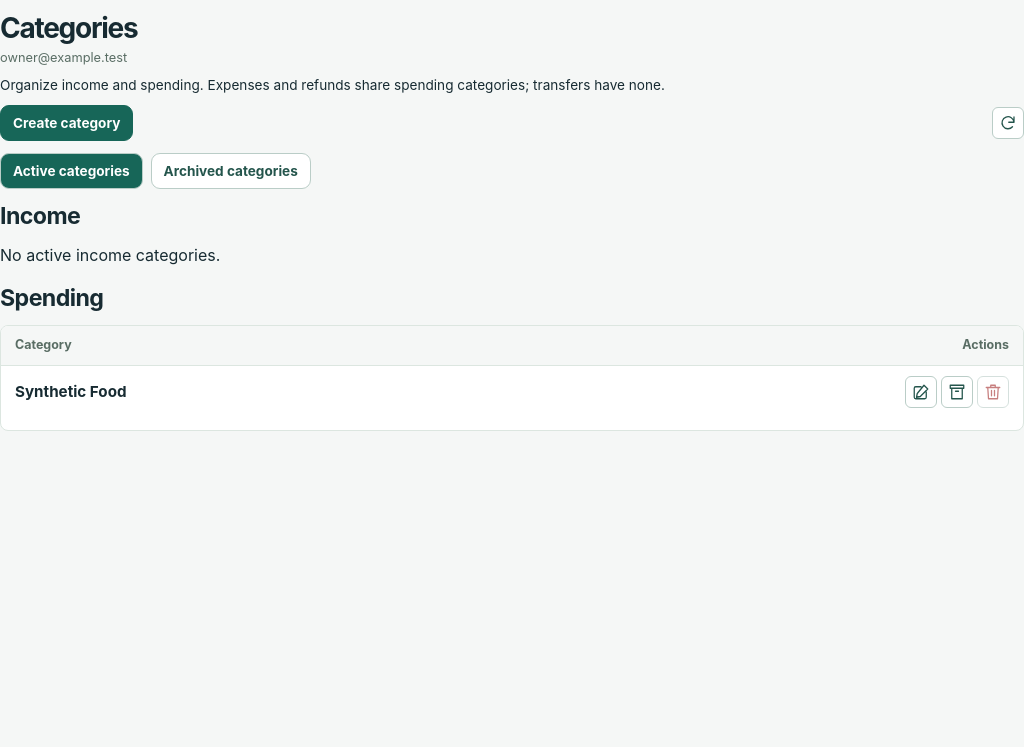
creates a child with parent and type and retains input after a failure
Expected: the heading "Synthetic Food" is shown, [15, 382, 126, 401]
Click the button "Create category".
click(67, 123)  # box [0, 105, 133, 141]
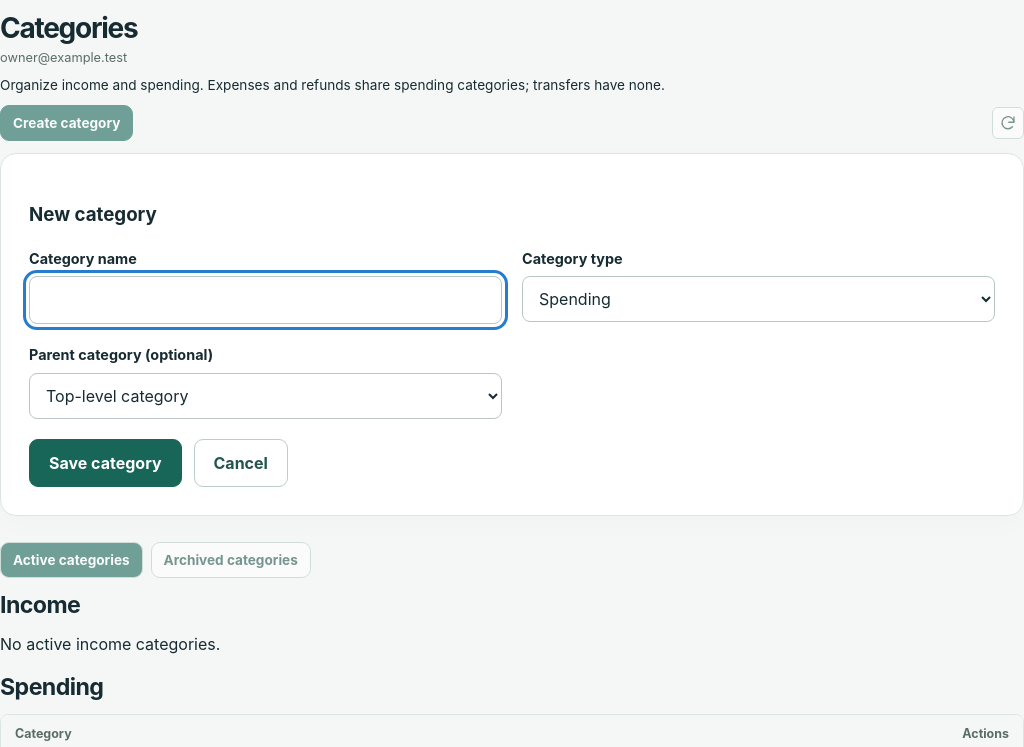
Type "Synthetic Groceries" into the field labelled "Category name".
click(266, 300); type("Synthetic Groceries")  # box [29, 276, 502, 324]
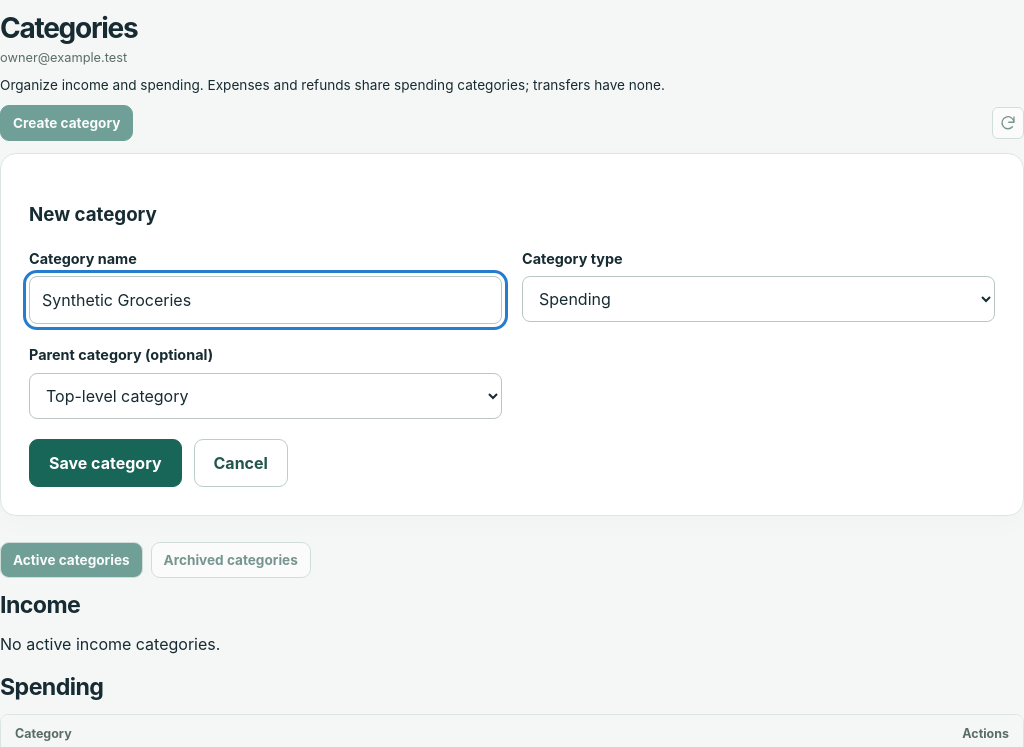
Select "Synthetic Food" in the dropdown labelled "Parent category (optional)" at (266, 396), box [29, 373, 502, 419]
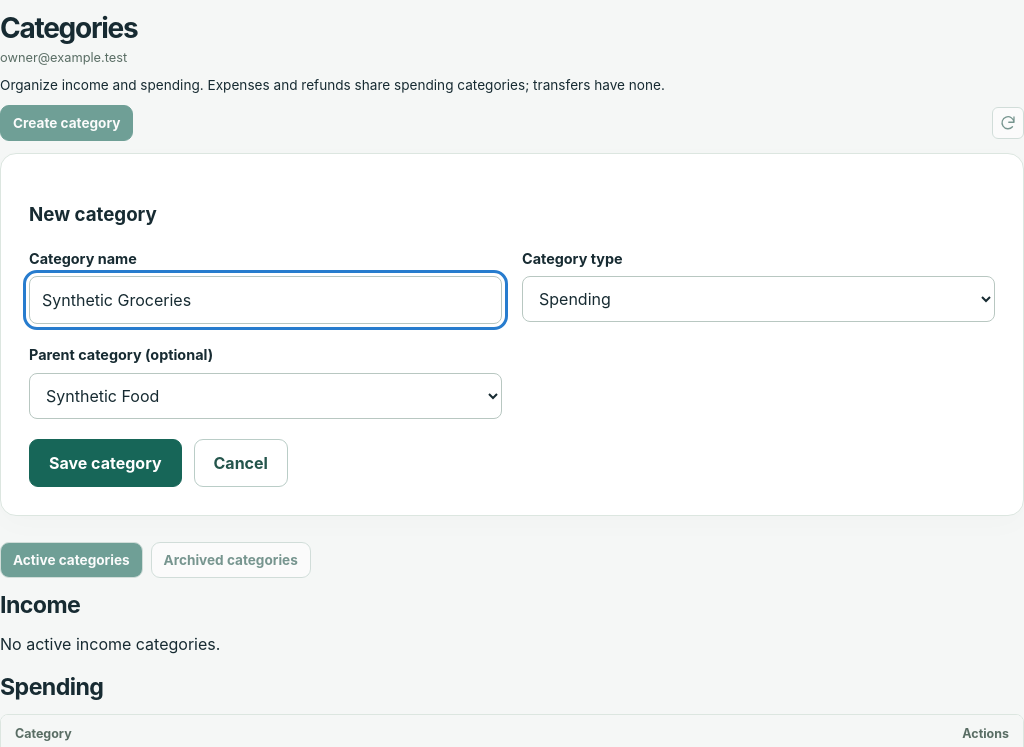
Click the button "Save category".
click(105, 463)  # box [29, 439, 182, 487]
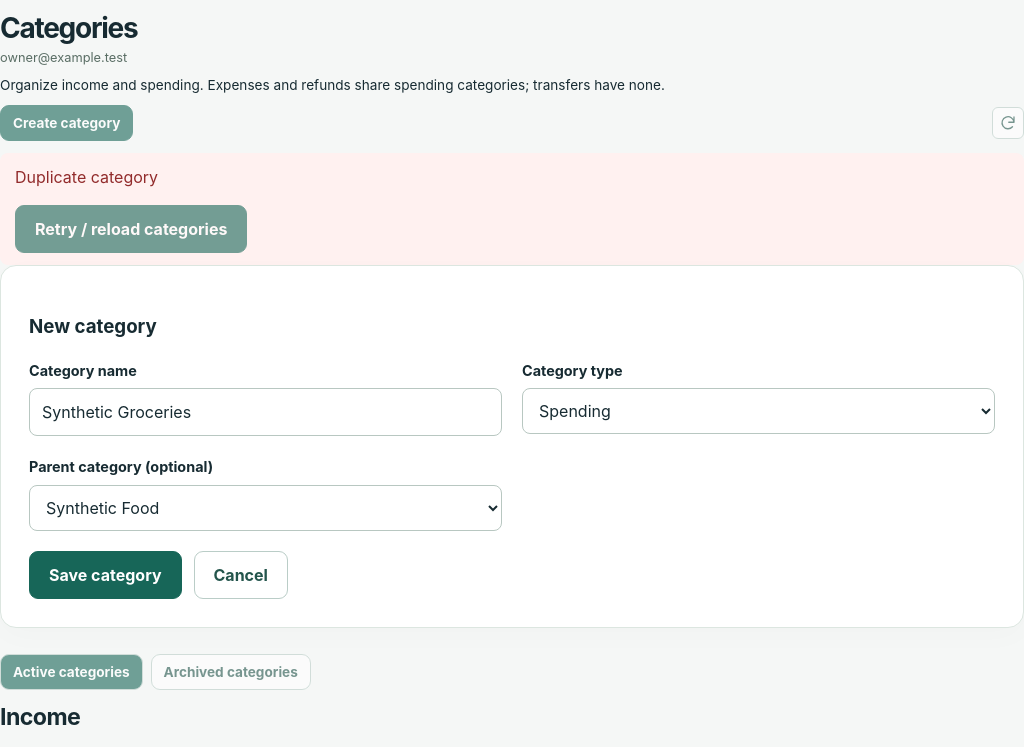
Now the text "Duplicate category" is shown, box [15, 167, 158, 187]
